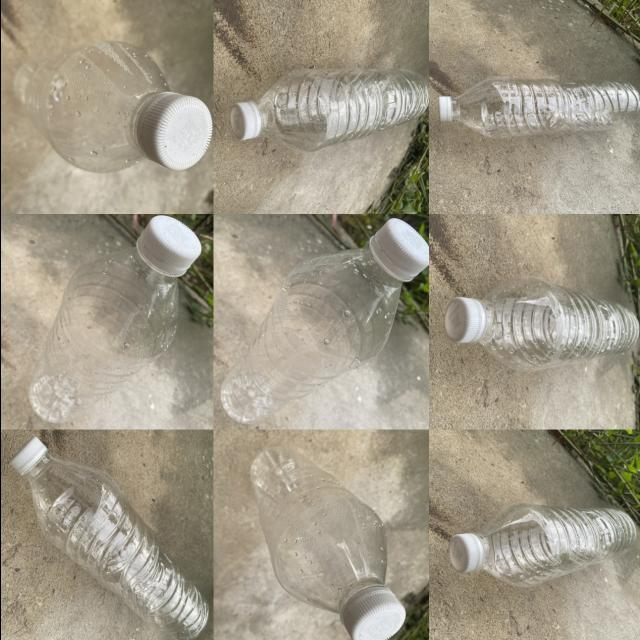plastik: (219, 218, 428, 424), (9, 437, 208, 640), (29, 216, 200, 423), (250, 447, 405, 640), (13, 41, 212, 173), (444, 276, 638, 371), (229, 68, 428, 153), (448, 504, 635, 587), (438, 77, 640, 139)
